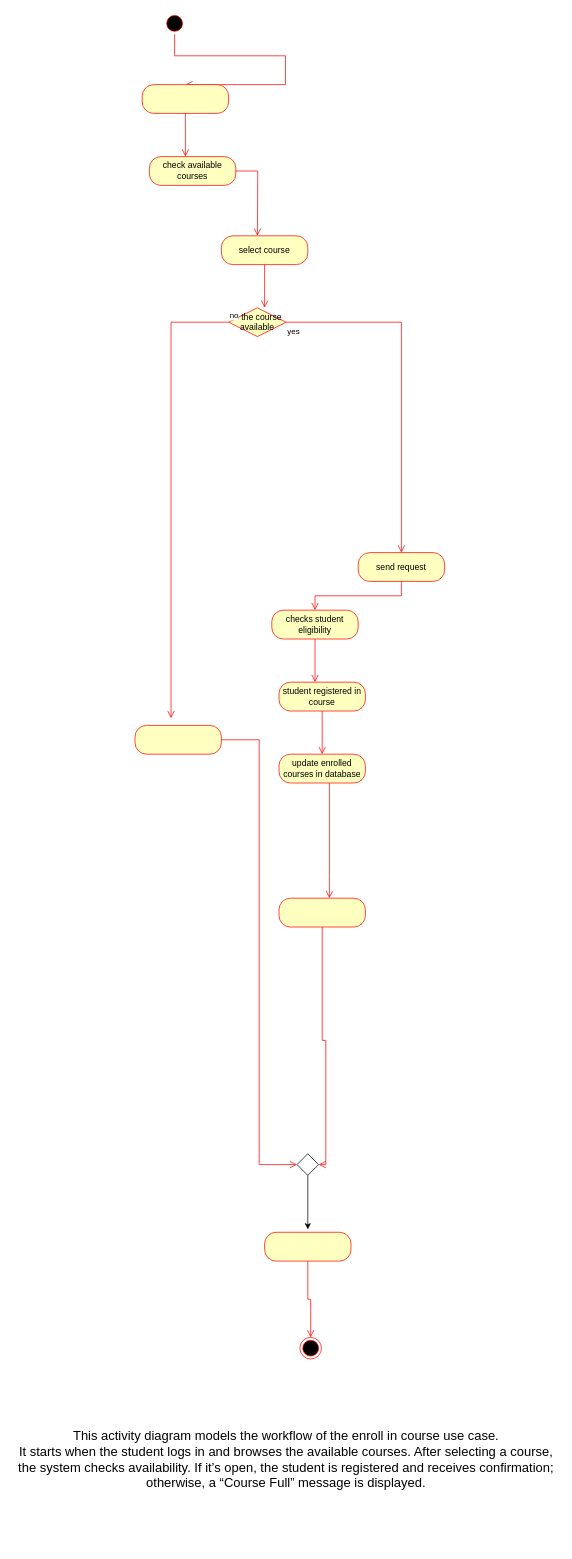
Some shapes in this 572 by 1559 pixel diagram are drawn without their labels. Here are the shapes that lost their labels. From the top down, the centre of each, then its label:
At pixel 185 98: "Student logs in skillforge".
At pixel 177 739: "course full".
At pixel 321 912: "show enrollment confirmation".
At pixel 307 1246: "return to course list".
